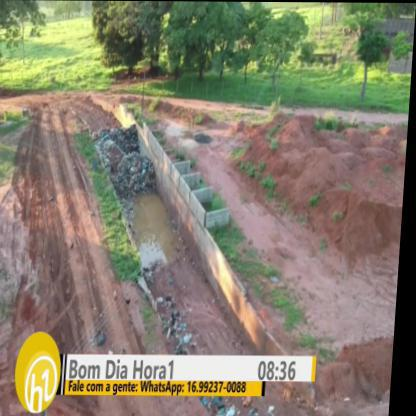agua: (143, 197, 177, 255)
lixo: (116, 136, 157, 189)
